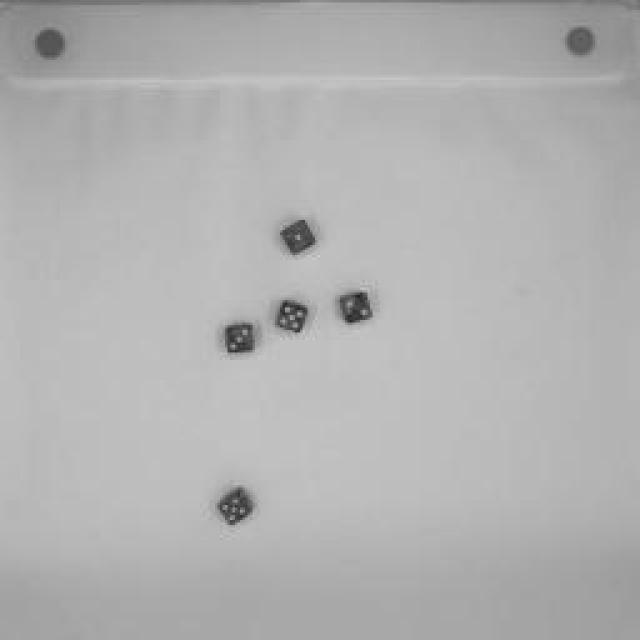dice_1: (279, 215, 321, 257)
dice_2: (338, 288, 378, 328), (220, 320, 260, 358)
dice_5: (215, 485, 255, 527), (274, 298, 314, 338)
